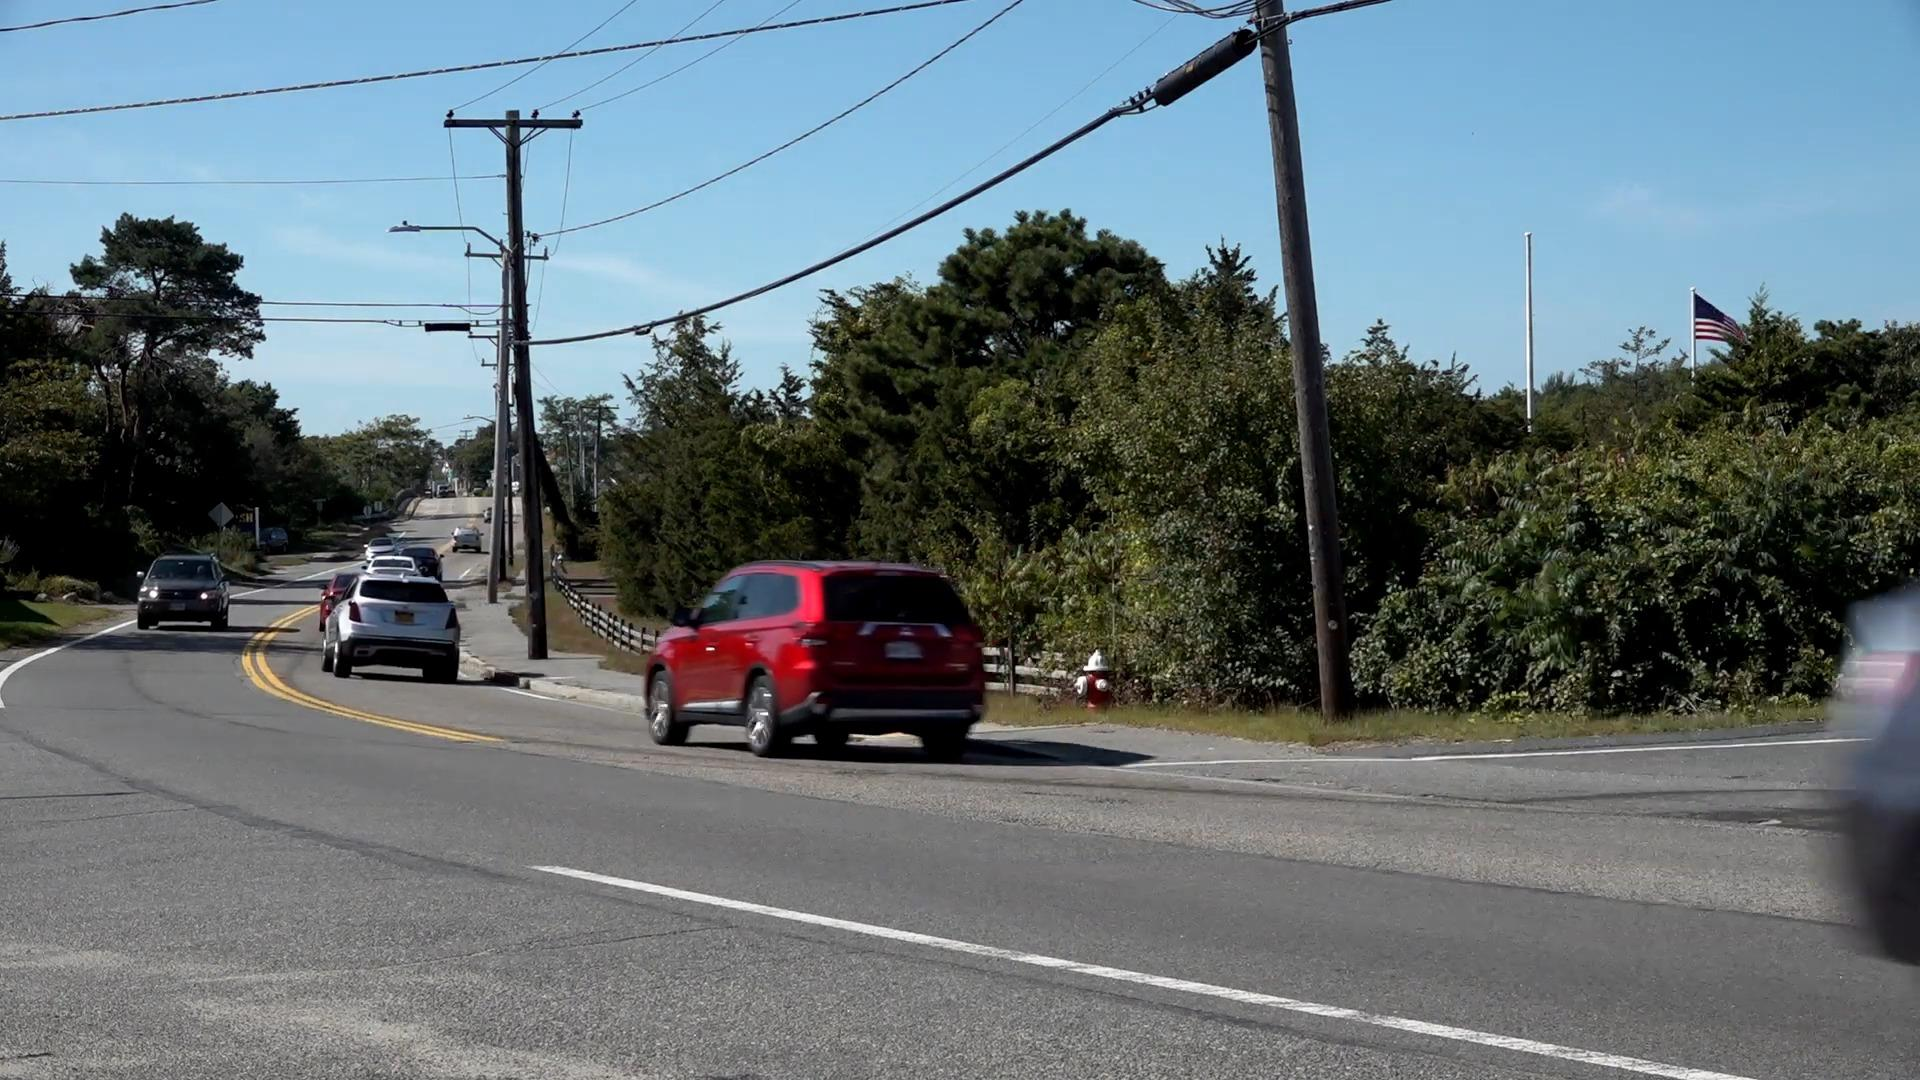suv: (645, 559, 992, 760), (320, 578, 469, 684), (141, 553, 229, 634)
